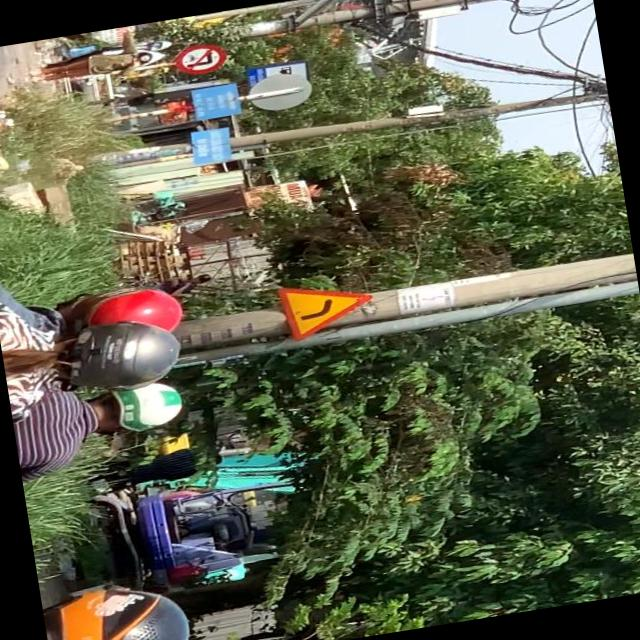W-201a: (280, 274, 376, 342)
